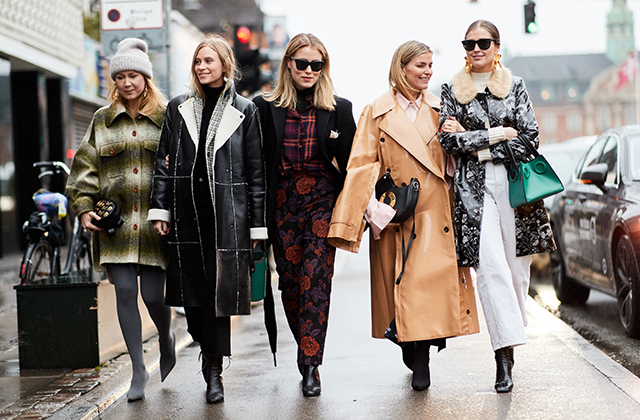Person: (335, 33, 482, 407), (435, 12, 572, 397), (147, 32, 278, 408), (64, 26, 188, 404), (251, 28, 370, 410)
